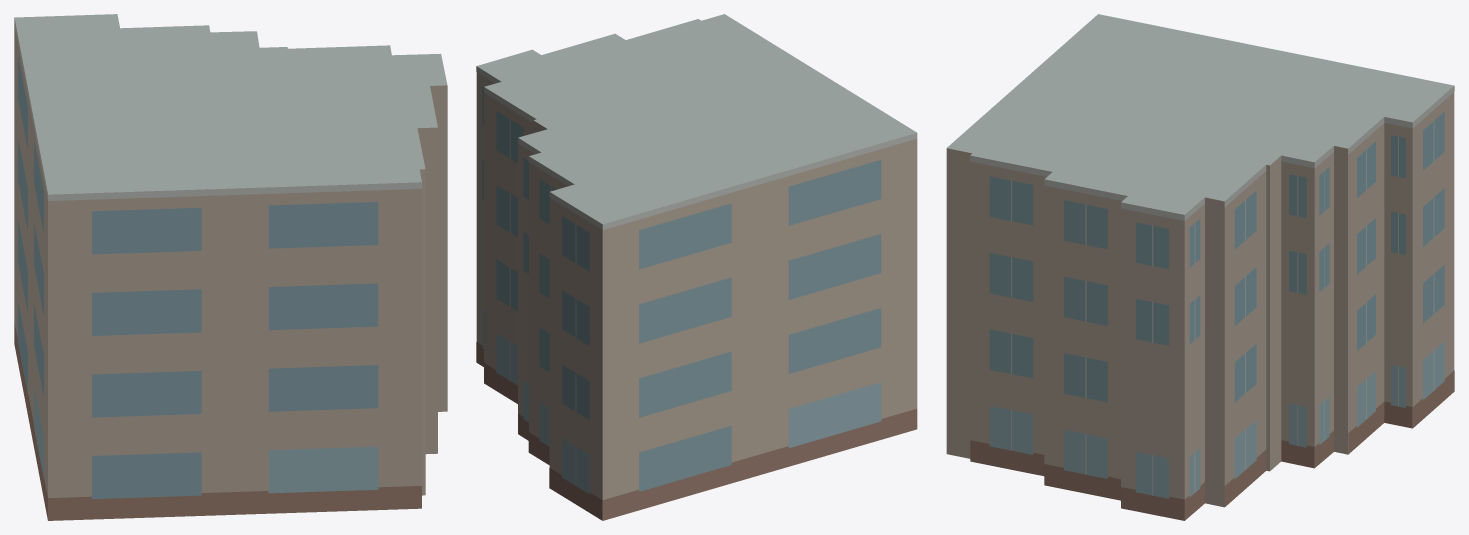
Rendered from survey-upis-32682022.glb.
The picture shows the model from 3 angles, left to right: view 1: azimuth 30°, elevation 25°; view 2: azimuth 150°, elevation 25°; view 3: azimuth 270°, elevation 25°; orthographic projection. The views are drawn at different scales.
Parts seen in each view (by area): view 1: survey-upis-32682022.tmp; view 2: survey-upis-32682022.tmp; view 3: survey-upis-32682022.tmp.
Part boxes in pixels (x1,y1,x2,y2): survey-upis-32682022.tmp: (14,14,447,520); survey-upis-32682022.tmp: (476,14,917,520); survey-upis-32682022.tmp: (946,14,1454,520).
Bounding box in the file's own units: 17.36 × 12.32 × 18.55.
